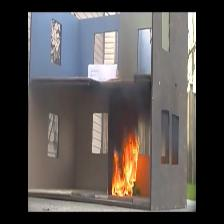fire: (112, 139, 138, 196)
smoke: (112, 83, 139, 120)
